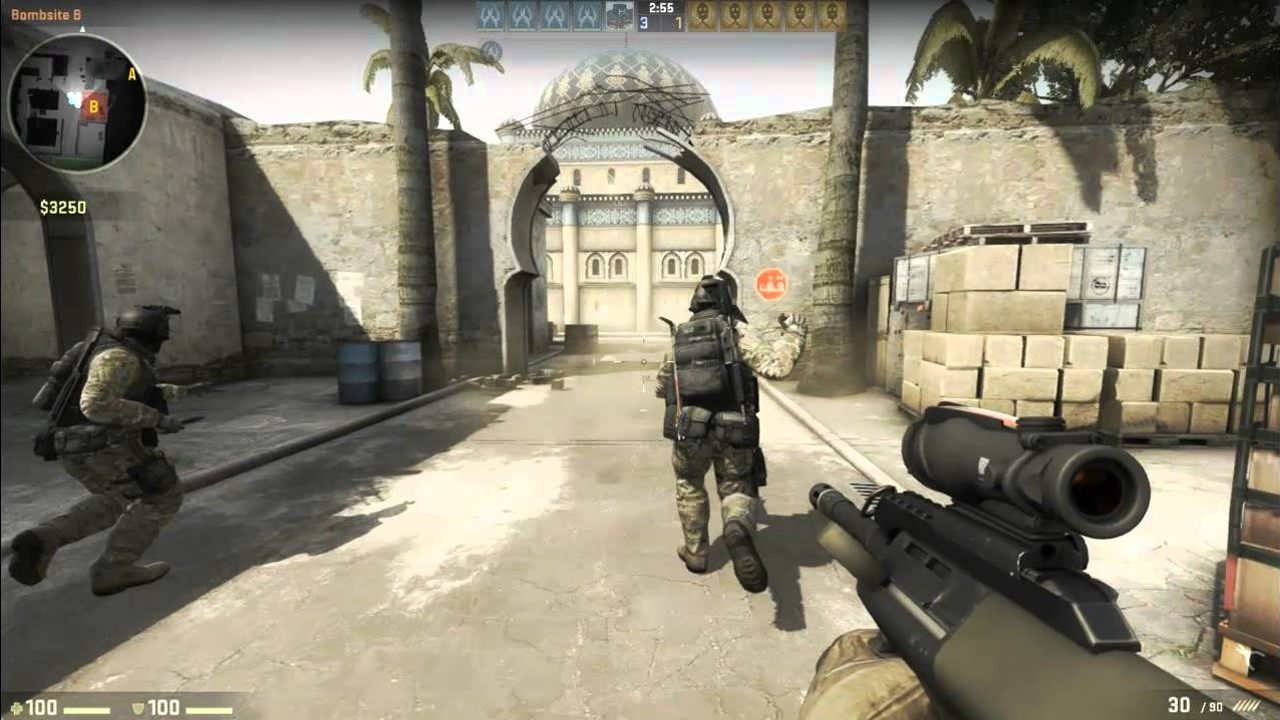c: (1, 294, 191, 603), (640, 262, 813, 598)
ch: (109, 294, 175, 365), (681, 267, 753, 326)
